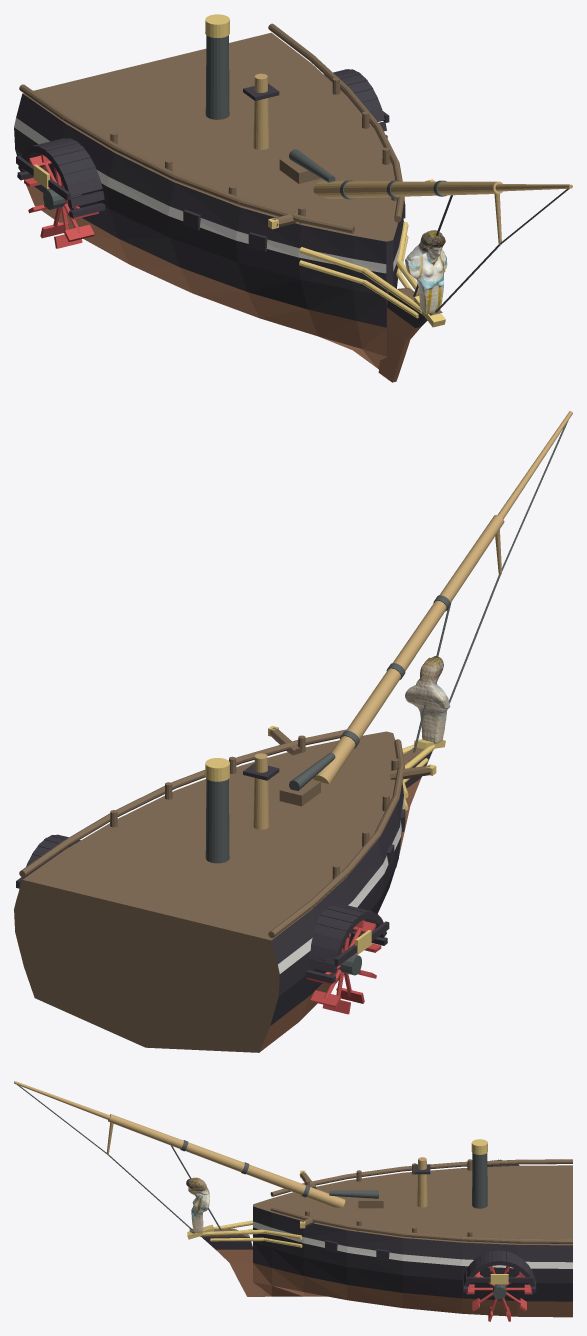
The model's file is basilisk.glb.
3 renders of one model, top to bottom at view 1: azimuth 30°, elevation 25°; view 2: azimuth 150°, elevation 25°; view 3: azimuth 270°, elevation 25°, orthographic. The views are drawn at different scales.
Parts seen in each view (by area): view 1: basilisk_ParentBow, basilisk_Figurehead; view 2: basilisk_ParentBow, basilisk_Figurehead; view 3: basilisk_ParentBow, basilisk_Figurehead.
Boxes of the visible parts, x1,y1,x2,y2 form: basilisk_ParentBow: (14,14,572,382); basilisk_Figurehead: (405,230,447,314); basilisk_ParentBow: (14,411,572,1052); basilisk_Figurehead: (405,656,450,743); basilisk_ParentBow: (14,1081,572,1321); basilisk_Figurehead: (186,1177,209,1232).
Size of the model in its own units: 13.2 by 12.7 by 29.92.
Materials: 2 (2 with a texture image).
